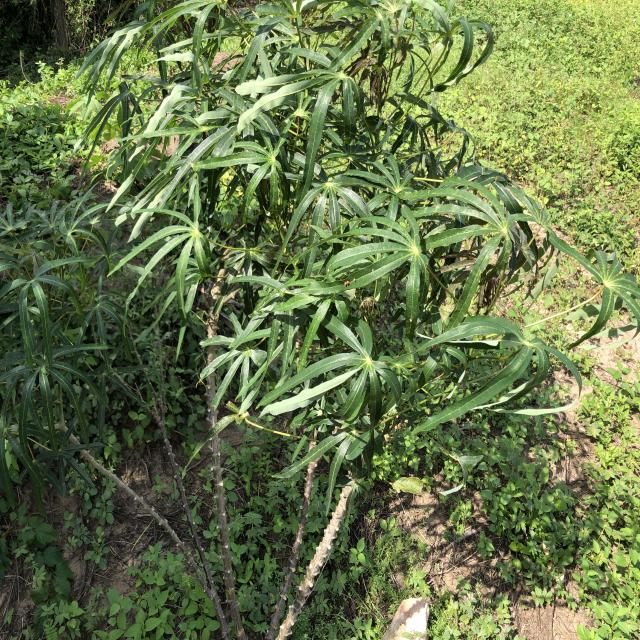Maleza: (497, 7, 638, 173), (494, 423, 640, 581)
Mosca: (186, 157, 201, 181), (340, 272, 360, 289), (28, 456, 41, 469), (263, 10, 280, 19), (349, 99, 359, 110), (34, 224, 42, 237)
